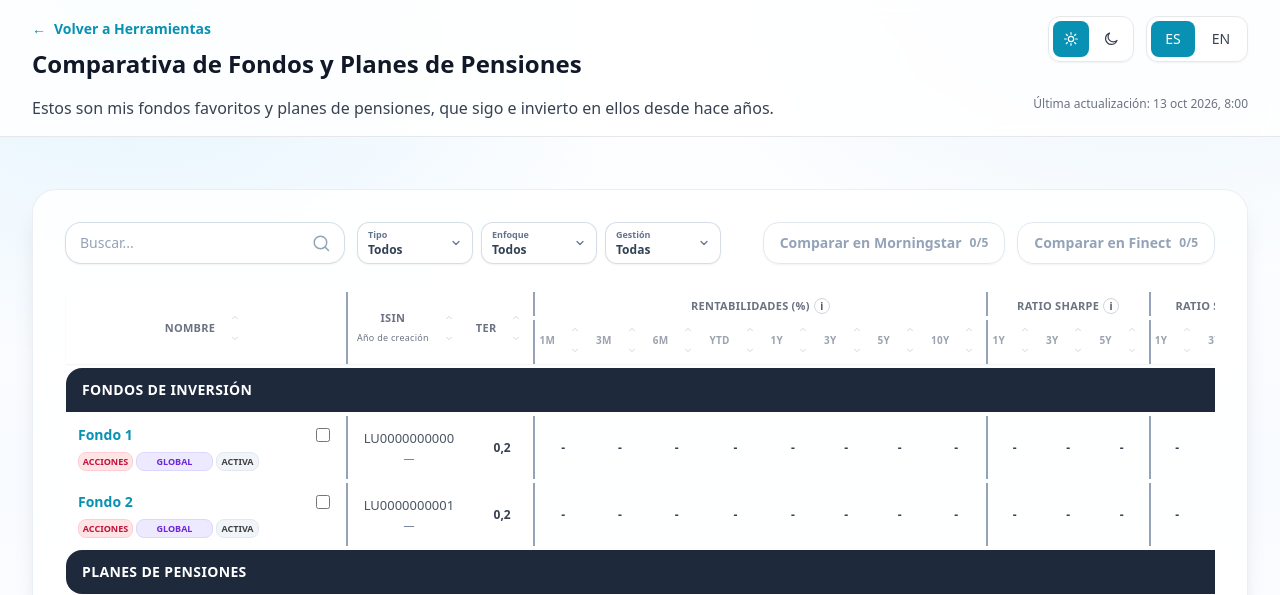
Test case: visible comparison feedback and selection › explains missing morningstarId without disabling the other provider
Click the checkbox named "Seleccionar para comparar: Fondo 1".
click(323, 435)  # box 316,428 -> 330,442
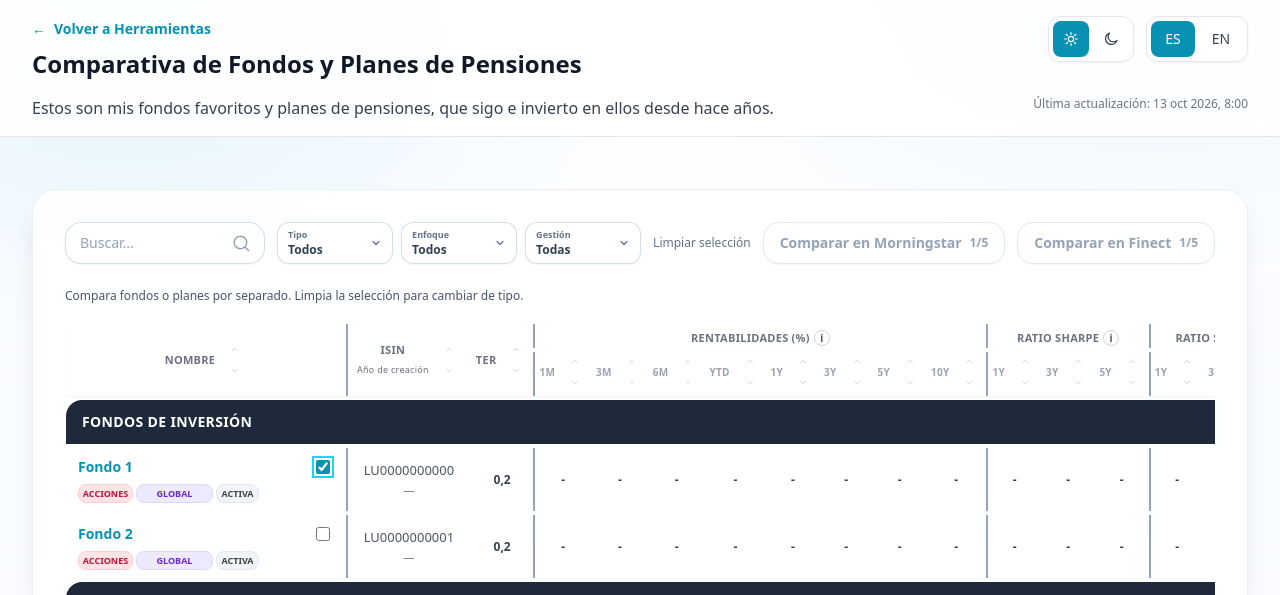
Click the checkbox named "Seleccionar para comparar: Fondo 2".
click(323, 534)  # box 316,527 -> 330,541
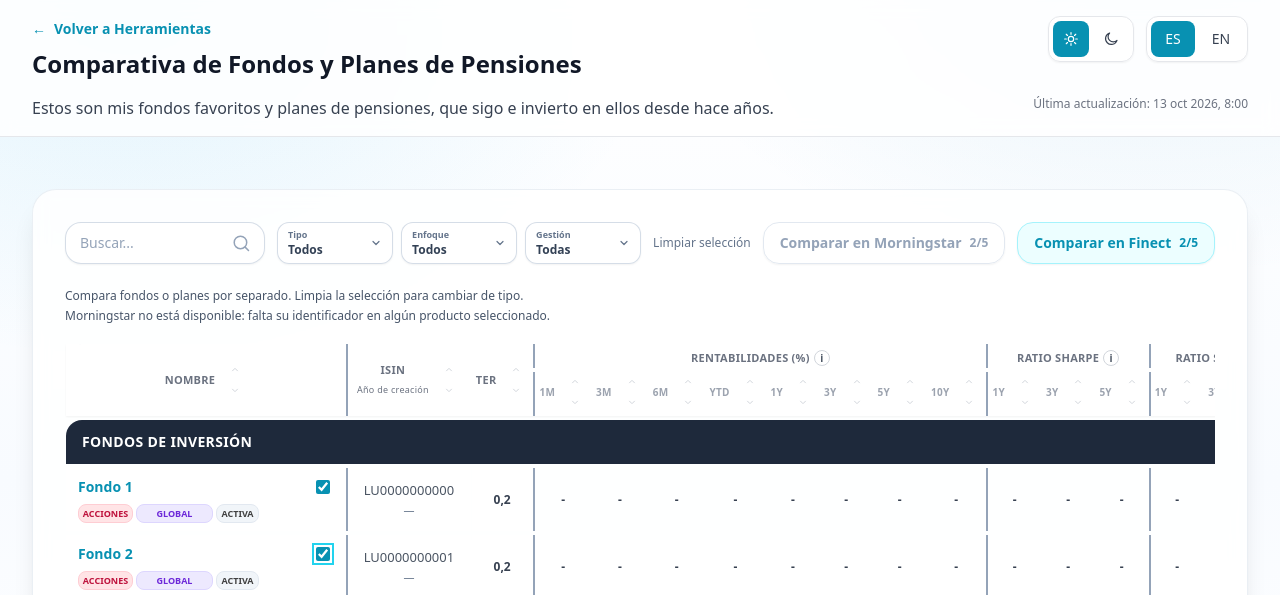
expect the message shows "Morningstar no está disponible": met, box 65,307 -> 550,324
